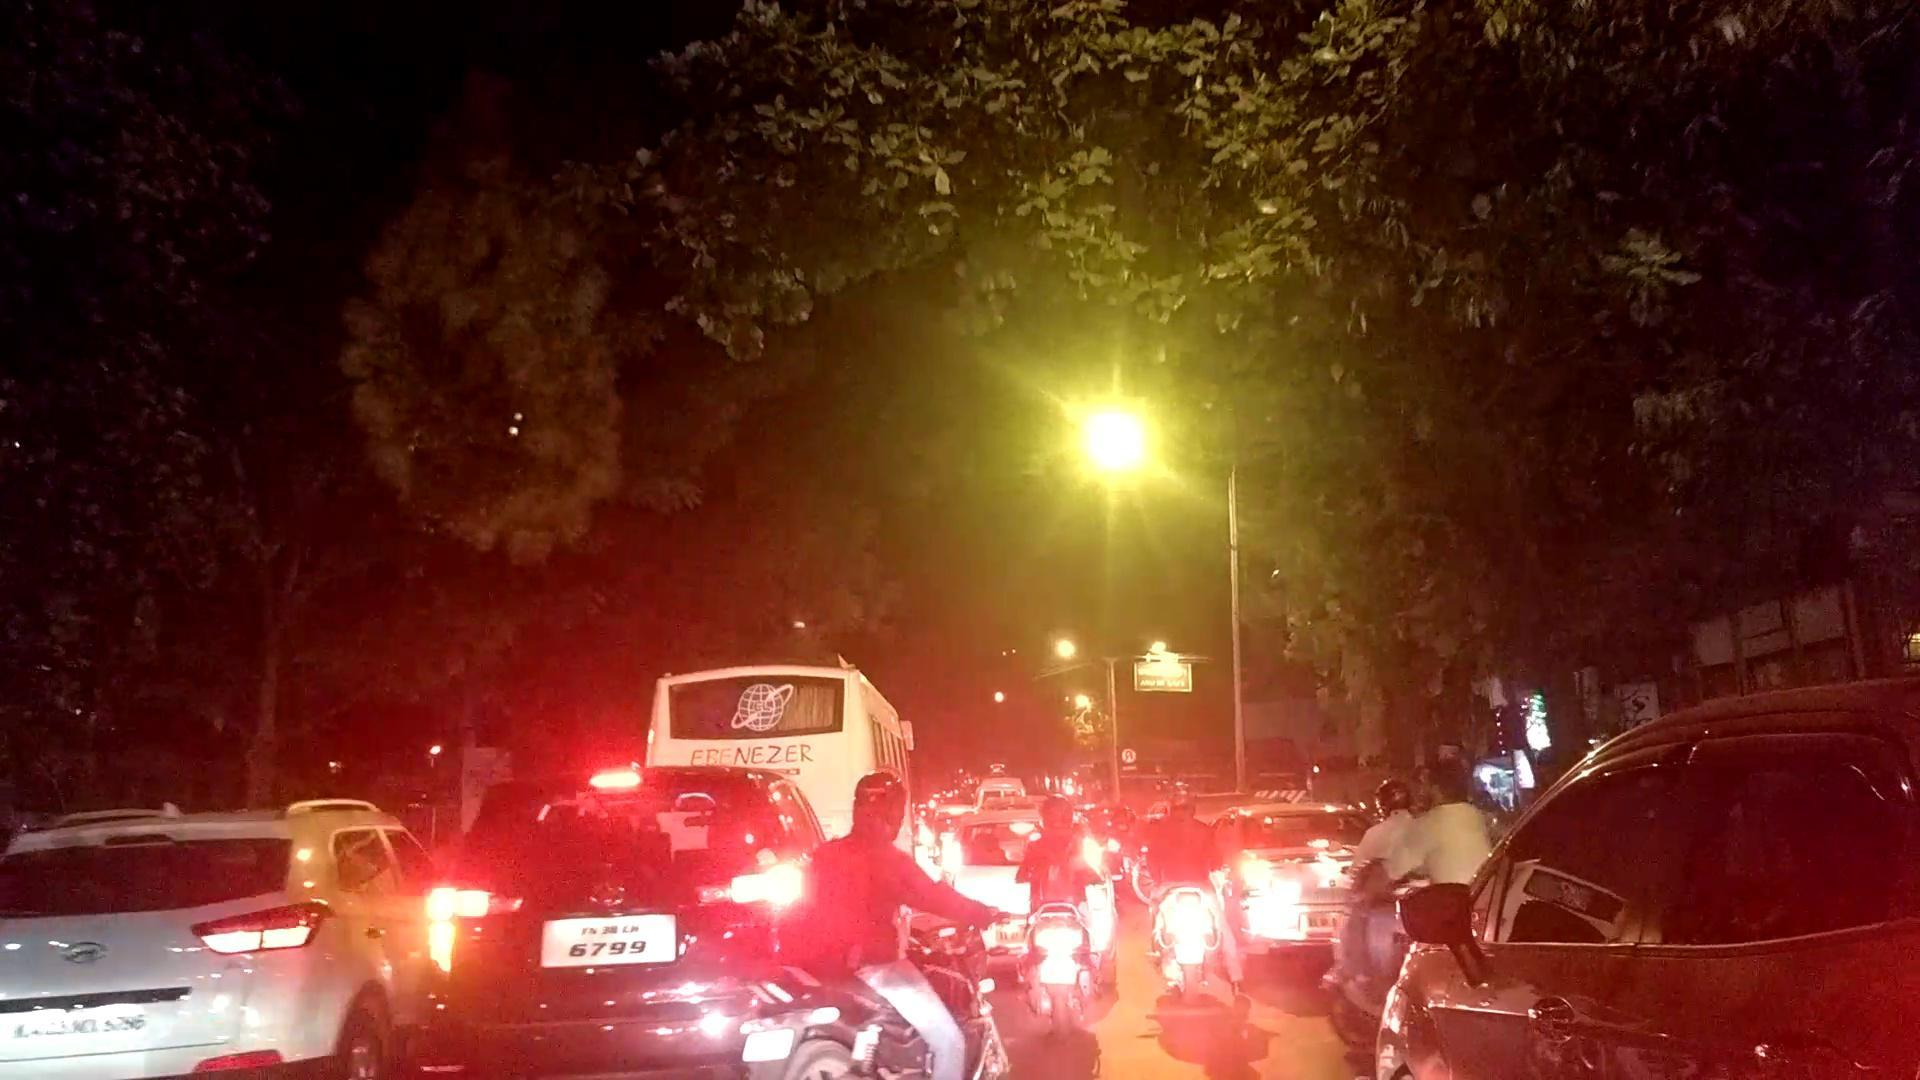on: (80, 0, 1726, 1080)
